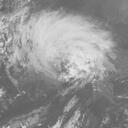cyclone: (33, 11, 111, 84)
